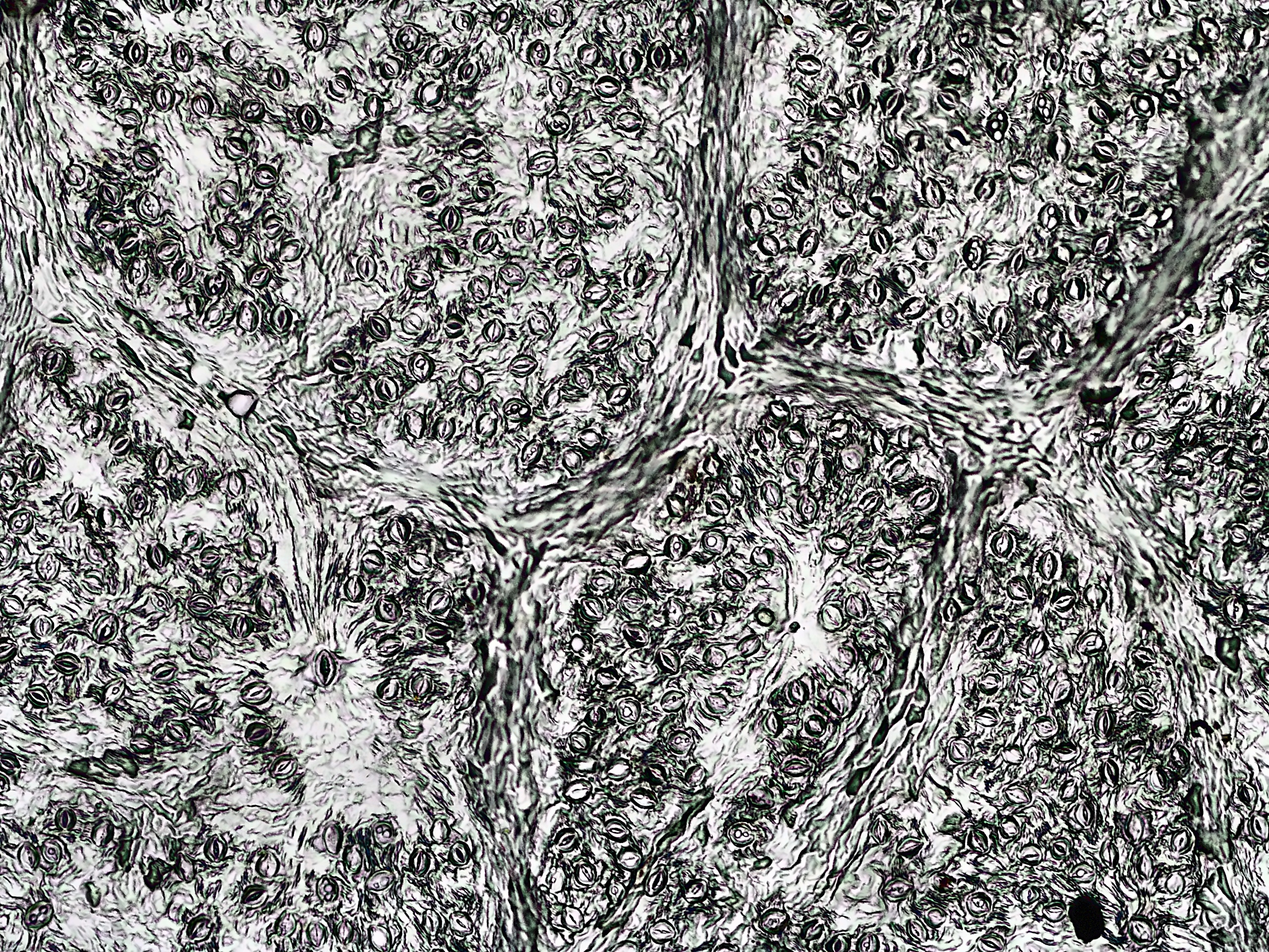stomata: (875, 876, 917, 902), (987, 303, 1016, 337), (23, 899, 53, 929), (1223, 595, 1248, 630), (794, 494, 821, 525), (1035, 89, 1057, 127), (42, 346, 68, 378), (757, 907, 789, 933), (314, 650, 336, 686), (648, 40, 672, 73), (235, 302, 262, 331), (408, 353, 435, 382), (225, 38, 251, 68), (100, 678, 126, 708), (490, 4, 516, 34), (296, 103, 322, 133), (203, 268, 229, 298), (727, 822, 758, 847), (964, 235, 986, 270), (8, 506, 35, 534), (525, 40, 552, 68), (840, 445, 867, 473), (621, 547, 650, 573), (406, 847, 431, 877), (93, 613, 117, 644), (986, 110, 1010, 141), (922, 177, 945, 209), (1082, 583, 1109, 610), (1129, 916, 1156, 943), (548, 72, 574, 100), (138, 190, 160, 223), (759, 480, 784, 509), (124, 38, 148, 68), (91, 817, 115, 847), (243, 532, 267, 562), (527, 151, 557, 175), (440, 204, 464, 234), (588, 328, 618, 352), (664, 532, 688, 562), (1035, 551, 1059, 581), (990, 528, 1013, 559), (305, 19, 327, 51), (397, 24, 423, 51), (1087, 98, 1114, 124), (1130, 93, 1156, 120), (151, 83, 176, 111), (186, 917, 214, 942), (964, 892, 992, 917), (872, 53, 896, 82), (794, 229, 818, 258), (1042, 46, 1066, 75), (1038, 202, 1062, 231), (269, 304, 292, 334), (868, 814, 890, 845), (1049, 132, 1071, 163), (449, 910, 475, 936), (375, 596, 402, 621), (583, 280, 610, 305), (650, 920, 677, 945), (965, 827, 990, 854), (1199, 16, 1224, 43), (128, 488, 152, 516), (306, 922, 330, 950), (404, 410, 428, 438), (751, 547, 779, 571), (657, 648, 681, 676), (630, 786, 658, 810), (257, 851, 280, 880), (1238, 22, 1261, 51), (52, 652, 82, 674), (241, 682, 271, 704), (865, 276, 887, 306), (328, 352, 359, 373), (910, 40, 931, 71), (1079, 424, 1110, 445), (427, 589, 452, 615), (701, 530, 727, 555), (660, 687, 685, 713), (978, 626, 1004, 651), (271, 754, 298, 778), (421, 79, 445, 106), (545, 111, 572, 135), (433, 416, 457, 443), (634, 337, 661, 361), (26, 685, 54, 708), (343, 575, 366, 603), (624, 262, 647, 290), (509, 354, 537, 377), (562, 904, 585, 932), (748, 786, 776, 809), (821, 604, 844, 632), (1009, 160, 1037, 183), (1006, 577, 1034, 600), (1079, 632, 1107, 655), (172, 41, 194, 70), (593, 75, 622, 97), (357, 253, 378, 283), (787, 455, 808, 485), (527, 310, 552, 335), (859, 491, 884, 516), (375, 376, 399, 402), (388, 517, 412, 543), (624, 622, 650, 646), (99, 79, 122, 106), (242, 885, 269, 908), (315, 875, 338, 902), (603, 7, 626, 34), (499, 264, 526, 287), (504, 398, 531, 421), (616, 698, 639, 725), (603, 876, 626, 903), (175, 853, 197, 881), (364, 94, 386, 122), (366, 870, 394, 892), (594, 207, 622, 229), (747, 273, 769, 301), (900, 298, 928, 320), (763, 709, 785, 737), (205, 832, 226, 861), (895, 835, 924, 856), (1219, 284, 1240, 313), (262, 213, 286, 238), (473, 229, 497, 254), (821, 97, 846, 121), (785, 96, 809, 121), (914, 237, 939, 261), (605, 757, 630, 781), (70, 15, 96, 38), (203, 302, 226, 328), (368, 315, 391, 341), (875, 0, 901, 23), (1102, 275, 1125, 301), (132, 148, 159, 170), (459, 58, 481, 85), (461, 366, 483, 393), (189, 693, 217, 714), (275, 910, 296, 938), (847, 82, 868, 110), (865, 551, 893, 572), (1248, 250, 1269, 278), (330, 73, 354, 97), (461, 136, 485, 160), (360, 550, 384, 574), (869, 427, 887, 459), (566, 778, 590, 802), (1126, 813, 1144, 845), (267, 64, 290, 89), (216, 182, 241, 205), (217, 222, 240, 247), (187, 639, 212, 662), (847, 24, 872, 47), (769, 197, 794, 220), (726, 567, 749, 592), (669, 730, 694, 753), (182, 468, 204, 494), (335, 918, 357, 944), (369, 924, 391, 950), (621, 48, 643, 74), (617, 111, 643, 133), (520, 439, 542, 465), (605, 817, 631, 839), (844, 595, 866, 621), (936, 303, 958, 329), (1169, 454, 1195, 476), (1052, 741, 1078, 763), (1131, 690, 1157, 712), (1070, 862, 1096, 884), (1171, 827, 1190, 857), (252, 166, 279, 187), (147, 543, 168, 570), (376, 635, 403, 656), (837, 161, 864, 182), (704, 693, 731, 714), (1106, 665, 1127, 692), (38, 552, 58, 580), (876, 142, 896, 170), (755, 425, 775, 453), (1079, 59, 1099, 87), (241, 99, 265, 122), (224, 135, 247, 159), (279, 239, 303, 262), (557, 254, 580, 278), (833, 194, 857, 217), (887, 457, 911, 480), (1093, 139, 1117, 162), (647, 867, 666, 896), (1095, 709, 1114, 738), (472, 180, 497, 202), (256, 593, 278, 618), (408, 269, 433, 291), (469, 274, 491, 299), (411, 673, 433, 698), (587, 150, 612, 172), (881, 521, 903, 546), (736, 634, 761, 656), (958, 332, 980, 357), (950, 739, 972, 764), (1164, 872, 1186, 897), (25, 455, 46, 481), (513, 218, 534, 244), (606, 384, 632, 405), (882, 90, 903, 116), (594, 667, 620, 688), (153, 448, 173, 475), (63, 492, 81, 522), (603, 178, 630, 198), (782, 757, 809, 777), (787, 678, 807, 705), (1033, 285, 1053, 312), (1100, 842, 1120, 869), (128, 732, 156, 751), (677, 9, 696, 37), (1250, 815, 1269, 843), (246, 264, 269, 287), (96, 214, 120, 236), (684, 878, 706, 902), (975, 178, 997, 202), (345, 844, 362, 875), (74, 54, 99, 75), (100, 182, 121, 207), (173, 260, 194, 285), (893, 263, 914, 288), (42, 836, 60, 865), (426, 624, 452, 644), (802, 140, 822, 166), (997, 60, 1017, 86), (619, 590, 645, 610), (1065, 277, 1085, 303), (422, 909, 441, 936), (795, 55, 822, 74), (1028, 632, 1047, 659), (1004, 786, 1031, 805), (325, 821, 341, 853), (105, 388, 127, 411), (1, 594, 23, 617), (247, 723, 270, 745), (166, 719, 189, 741), (381, 55, 403, 78), (220, 573, 242, 596), (377, 678, 400, 700), (475, 414, 498, 436), (867, 194, 889, 217), (585, 706, 607, 729), (1159, 57, 1182, 79), (1066, 203, 1088, 226), (86, 540, 107, 564), (32, 615, 53, 639), (431, 816, 449, 844), (483, 318, 504, 342), (578, 428, 602, 449), (759, 233, 780, 257), (582, 597, 603, 621), (706, 606, 727, 630), (703, 646, 724, 670), (617, 846, 641, 867), (977, 934, 1005, 952), (1071, 164, 1095, 185), (974, 706, 998, 727), (1239, 782, 1257, 810), (101, 7, 126, 27), (117, 109, 142, 129), (455, 686, 475, 711), (573, 365, 593, 390), (936, 88, 961, 108), (991, 28, 1016, 48), (744, 203, 764, 228), (825, 534, 850, 554), (907, 917, 927, 942), (1092, 231, 1112, 256), (1050, 592, 1075, 612), (128, 259, 147, 285), (870, 228, 889, 254), (838, 254, 857, 280), (1009, 247, 1026, 276), (19, 843, 37, 870), (704, 496, 731, 514), (801, 919, 823, 941), (867, 650, 889, 672), (1048, 837, 1070, 859), (1156, 334, 1178, 356), (82, 413, 103, 436), (83, 571, 104, 594), (373, 821, 394, 844), (545, 3, 566, 26), (577, 45, 600, 66), (402, 313, 423, 336), (829, 298, 850, 321), (849, 327, 872, 348), (702, 453, 723, 476), (914, 488, 935, 511), (978, 673, 1001, 694), (151, 662, 175, 682), (419, 183, 443, 203), (407, 552, 431, 572), (945, 129, 969, 149), (232, 615, 251, 640), (577, 862, 596, 887), (1043, 902, 1068, 921), (1132, 646, 1157, 665), (227, 471, 245, 497), (815, 455, 833, 481), (456, 10, 477, 32), (199, 546, 221, 567), (777, 291, 798, 313), (668, 494, 690, 515), (591, 570, 613, 591), (646, 763, 667, 785), (1172, 393, 1193, 415), (1132, 430, 1153, 452), (1035, 715, 1056, 737), (193, 95, 213, 118), (428, 44, 448, 67), (439, 246, 459, 269), (445, 315, 465, 338), (919, 518, 939, 541), (555, 829, 578, 849), (836, 645, 856, 668), (1015, 342, 1038, 362), (667, 598, 684, 625), (1077, 801, 1094, 828), (57, 806, 76, 830), (189, 595, 213, 614), (1052, 679, 1071, 703), (1212, 394, 1230, 419), (1150, 766, 1168, 791), (262, 0, 290, 16), (826, 0, 852, 17), (899, 421, 916, 447), (831, 689, 848, 715), (788, 424, 809, 445), (556, 217, 578, 237), (345, 402, 365, 424), (787, 173, 810, 192), (769, 399, 792, 418), (856, 933, 879, 952), (0, 638, 18, 662), (564, 449, 582, 473), (1047, 332, 1065, 356), (1180, 423, 1198, 447), (1171, 744, 1189, 768), (1136, 854, 1154, 878), (944, 597, 961, 622), (157, 239, 177, 260), (0, 752, 20, 773), (463, 582, 483, 603), (829, 416, 849, 437), (1102, 172, 1122, 193), (181, 531, 203, 550), (570, 730, 589, 752), (684, 765, 703, 787), (1018, 675, 1037, 697), (1002, 745, 1024, 764), (1060, 779, 1079, 801), (543, 387, 561, 410), (944, 60, 967, 78), (854, 626, 877, 644), (927, 906, 945, 929), (1149, 0, 1172, 18), (119, 237, 143, 254), (111, 435, 131, 455), (151, 592, 171, 612), (453, 841, 469, 866), (796, 323, 816, 343), (726, 475, 745, 496), (1020, 843, 1041, 862), (1241, 479, 1262, 498), (808, 283, 825, 306), (1102, 760, 1117, 786), (805, 715, 824, 735), (1130, 48, 1150, 67), (1126, 196, 1145, 216), (828, 934, 849, 952), (1125, 740, 1146, 758), (1209, 444, 1230, 462), (904, 130, 926, 147), (1, 467, 16, 491), (1249, 433, 1267, 453), (51, 388, 68, 409), (1140, 369, 1157, 390), (1246, 396, 1263, 417), (1000, 818, 1018, 837), (1018, 885, 1036, 904), (1161, 89, 1180, 107), (1230, 523, 1248, 542), (184, 292, 201, 312), (1055, 244, 1072, 264), (1184, 45, 1202, 63), (66, 165, 83, 184), (445, 531, 462, 549), (99, 507, 115, 526), (164, 0, 185, 14), (0, 544, 12, 567), (1259, 660, 1269, 684)
